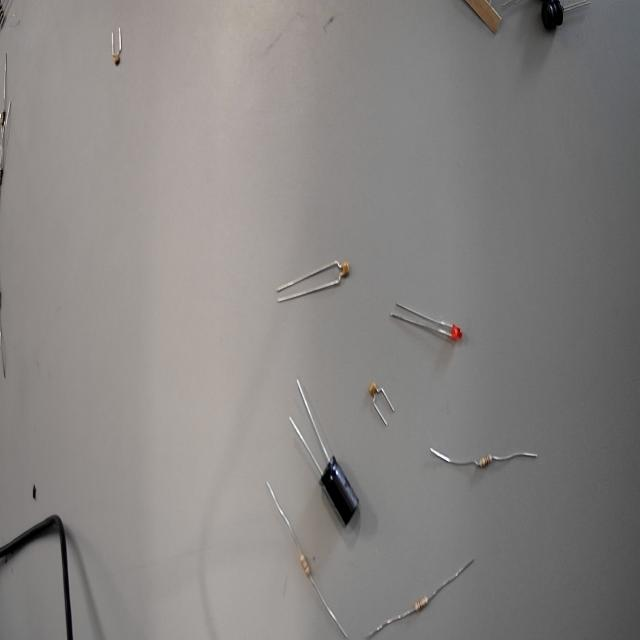LED_red: (441, 308, 472, 358)
capacitor: (326, 243, 358, 290), (360, 368, 388, 417)
capacitor_L: (310, 446, 370, 536)
resistor: (468, 437, 502, 484), (290, 539, 315, 584), (411, 589, 435, 619)
